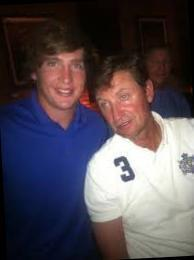Drunk: (96, 71, 150, 138), (40, 45, 87, 107)
